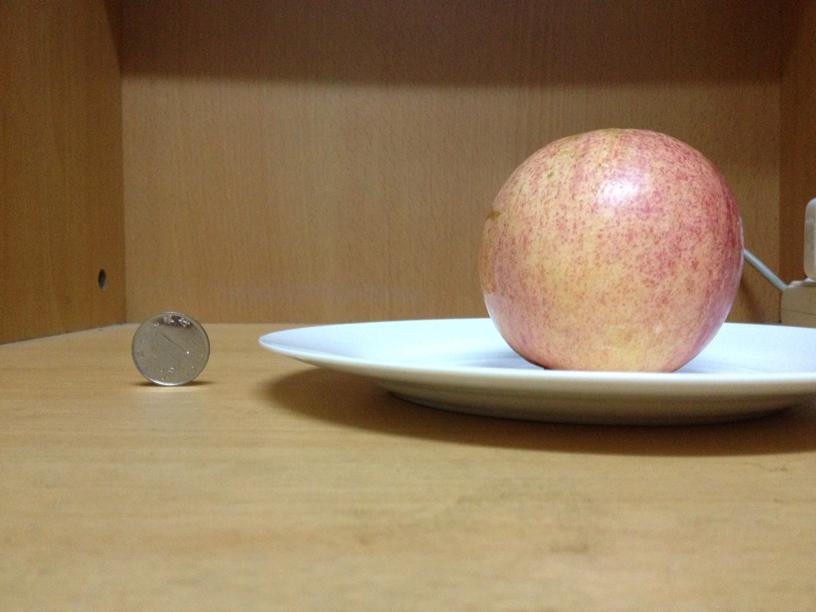apple: (476, 127, 743, 373)
coin: (129, 310, 209, 385)
